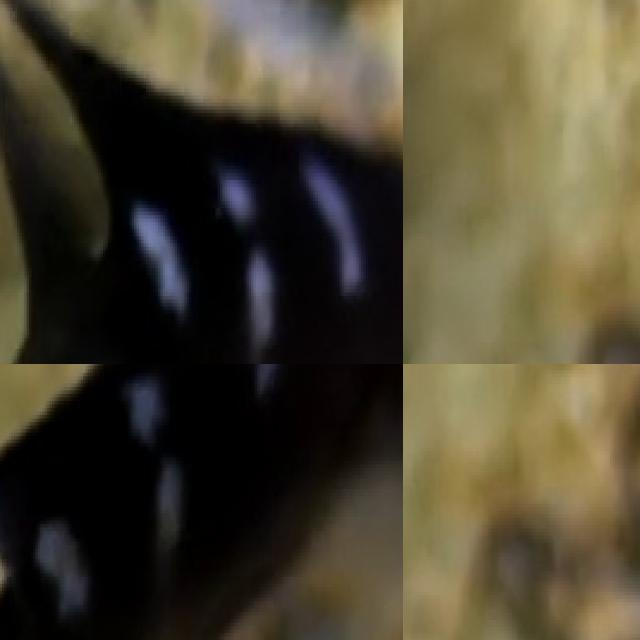fish: (0, 0, 403, 364), (0, 364, 403, 640)
